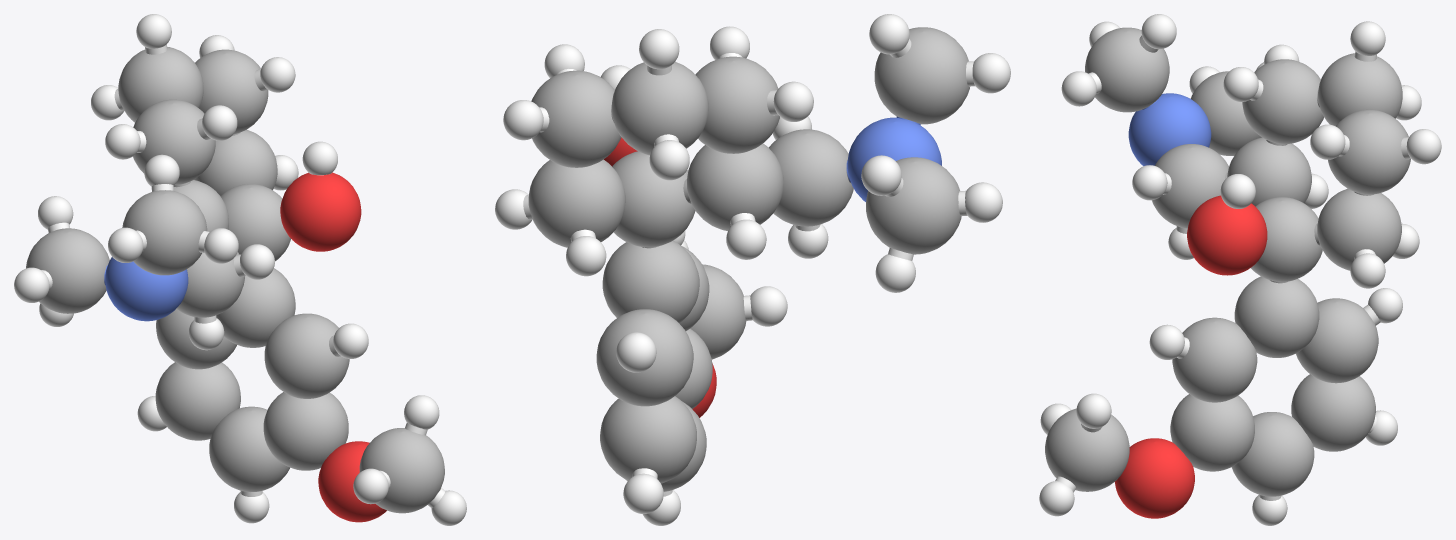
File: tramadol.glb
3 views of the same model, side by side, from view 1: azimuth 30°, elevation 25°; view 2: azimuth 150°, elevation 25°; view 3: azimuth 270°, elevation 25° (orthographic). The views are drawn at different scales.
Parts seen in each view (by area): view 1: Carbon_ball_10, Carbon_ball_4, Oxygen_ball_2, Carbon_ball_30, Carbon_ball_6, Carbon_ball_28, Carbon_ball_12, Carbon_ball, Carbon_ball_18, Carbon_ball_20, Carbon_ball_2, Carbon_ball_16 (+27 smaller); view 2: Carbon_ball_30, Carbon_ball_20, Carbon_ball_28, Carbon_ball_16, Carbon_ball_24, Carbon_ball_6, Carbon_ball_22, Carbon_ball_8, Carbon_ball_26, Carbon_ball_18, Carbon_ball_2, Carbon_ball_14 (+26 smaller); view 3: Carbon_ball_10, Carbon_ball_2, Carbon_ball_30, Carbon_ball_4, Carbon_ball_18, Carbon_ball_24, Carbon_ball_16, Carbon_ball_6, Carbon_ball_12, Carbon_ball_8, Carbon_ball, Oxygen_ball (+27 smaller).
Part boxes in pixels (x1,y1,x2,y2): Carbon_ball_10: [264, 313, 349, 398]; Carbon_ball_4: [263, 392, 348, 470]; Oxygen_ball_2: [280, 172, 361, 251]; Carbon_ball_30: [122, 190, 207, 275]; Carbon_ball_6: [155, 362, 240, 440]; Carbon_ball_28: [26, 228, 109, 313]; Carbon_ball_12: [359, 428, 444, 513]; Carbon_ball: [209, 406, 290, 491]; Carbon_ball_18: [133, 99, 215, 184]; Carbon_ball_20: [118, 46, 203, 122]; Carbon_ball_2: [216, 268, 295, 347]; Carbon_ball_16: [195, 49, 268, 134]; Carbon_ball_30: [874, 27, 969, 124]; Carbon_ball_20: [611, 62, 708, 155]; Carbon_ball_28: [866, 157, 961, 254]; Carbon_ball_16: [531, 70, 621, 167]; Carbon_ball_24: [528, 159, 625, 247]; Carbon_ball_6: [600, 396, 696, 483]; Carbon_ball_22: [687, 143, 783, 230]; Carbon_ball_8: [596, 309, 693, 406]; Carbon_ball_26: [768, 129, 853, 226]; Carbon_ball_18: [695, 56, 779, 153]; Carbon_ball_2: [602, 240, 699, 323]; Carbon_ball_14: [612, 151, 695, 247]; Carbon_ball_10: [1172, 317, 1257, 402]; Carbon_ball_2: [1234, 276, 1319, 357]; Carbon_ball_30: [1085, 27, 1169, 112]; Carbon_ball_4: [1170, 394, 1254, 471]; Carbon_ball_18: [1242, 59, 1323, 143]; Carbon_ball_24: [1317, 188, 1401, 270]; Carbon_ball_16: [1328, 109, 1410, 194]; Carbon_ball_6: [1291, 374, 1375, 451]; Carbon_ball_12: [1045, 408, 1129, 491]; Carbon_ball_8: [1296, 298, 1378, 383]; Carbon_ball: [1231, 412, 1314, 496]; Oxygen_ball: [1115, 438, 1194, 518].
Bounding box in the file's own units: 7.74 × 9.56 × 7.29.
